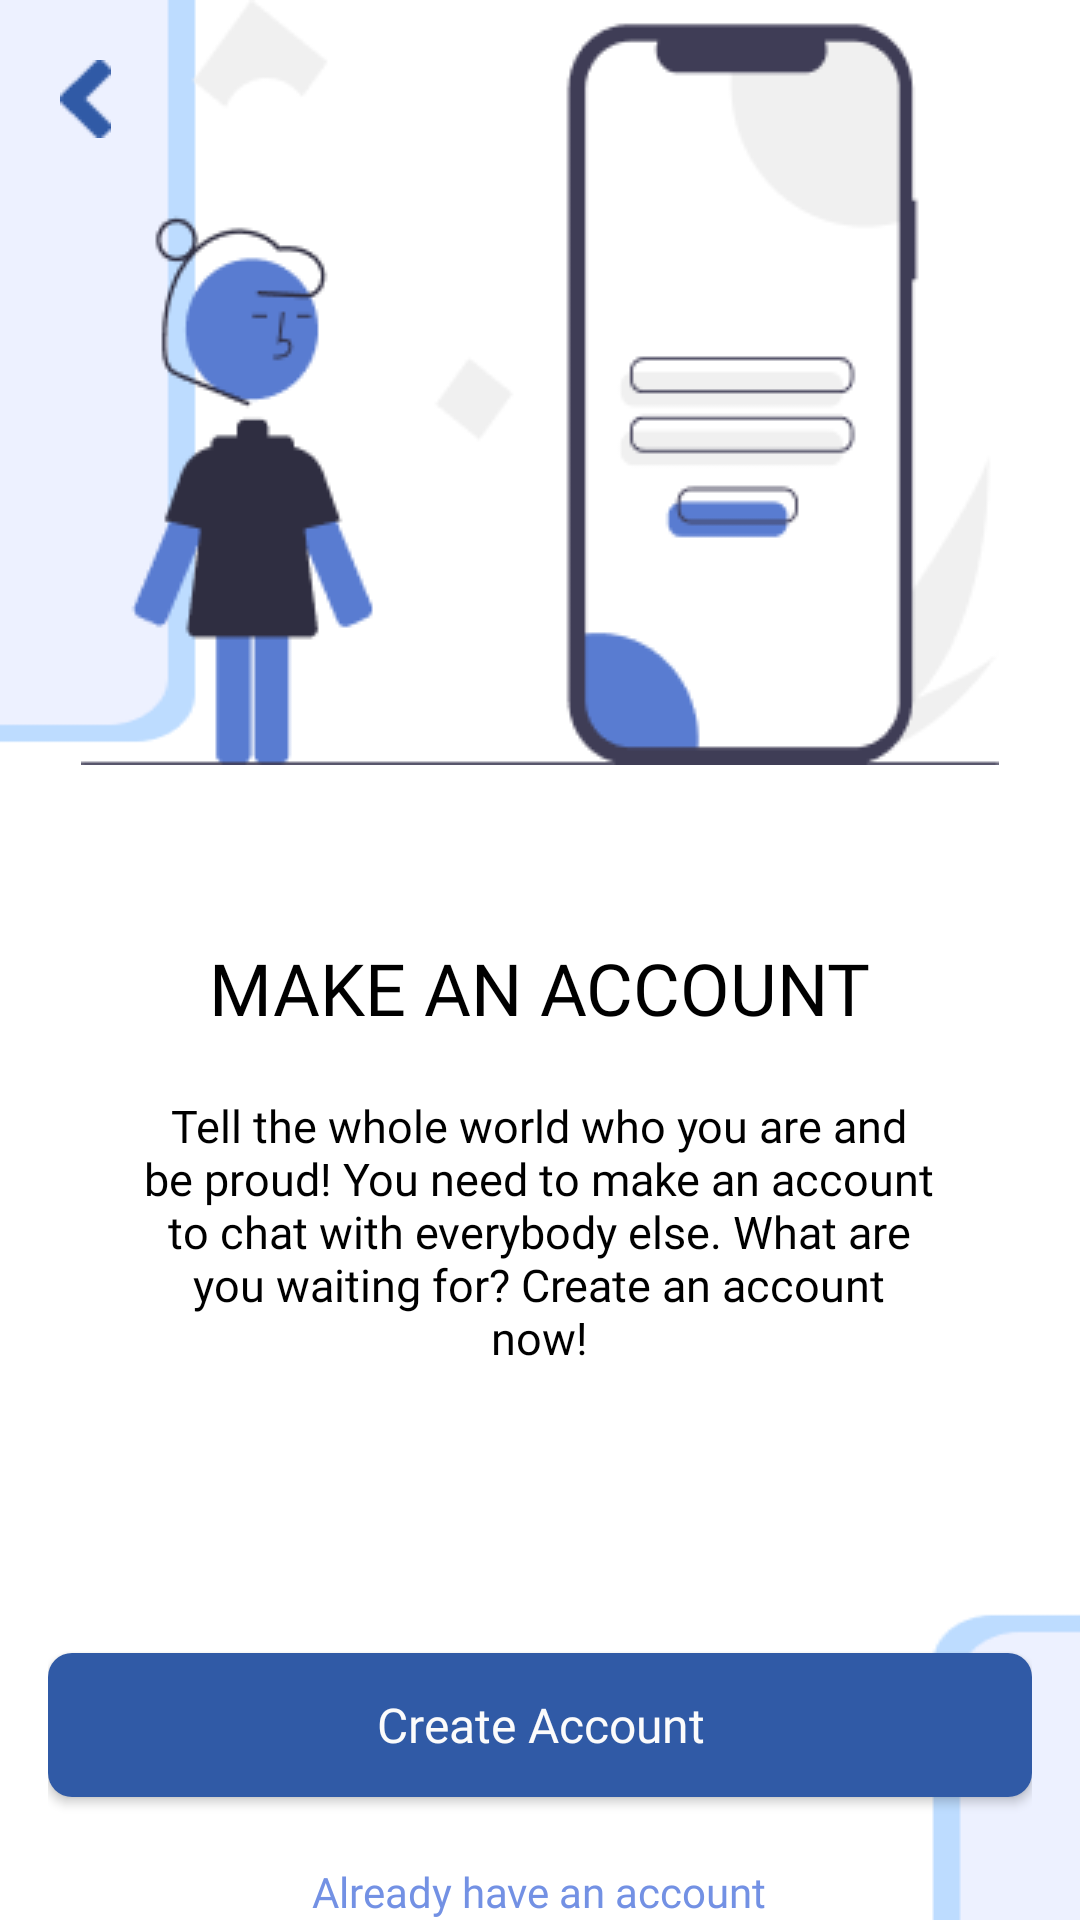

Named icons in this screenshot (1080*1920) and their bounding boxes, BBox(x1, y1, x2, y2):
back symbol: BBox(60, 60, 111, 138)
